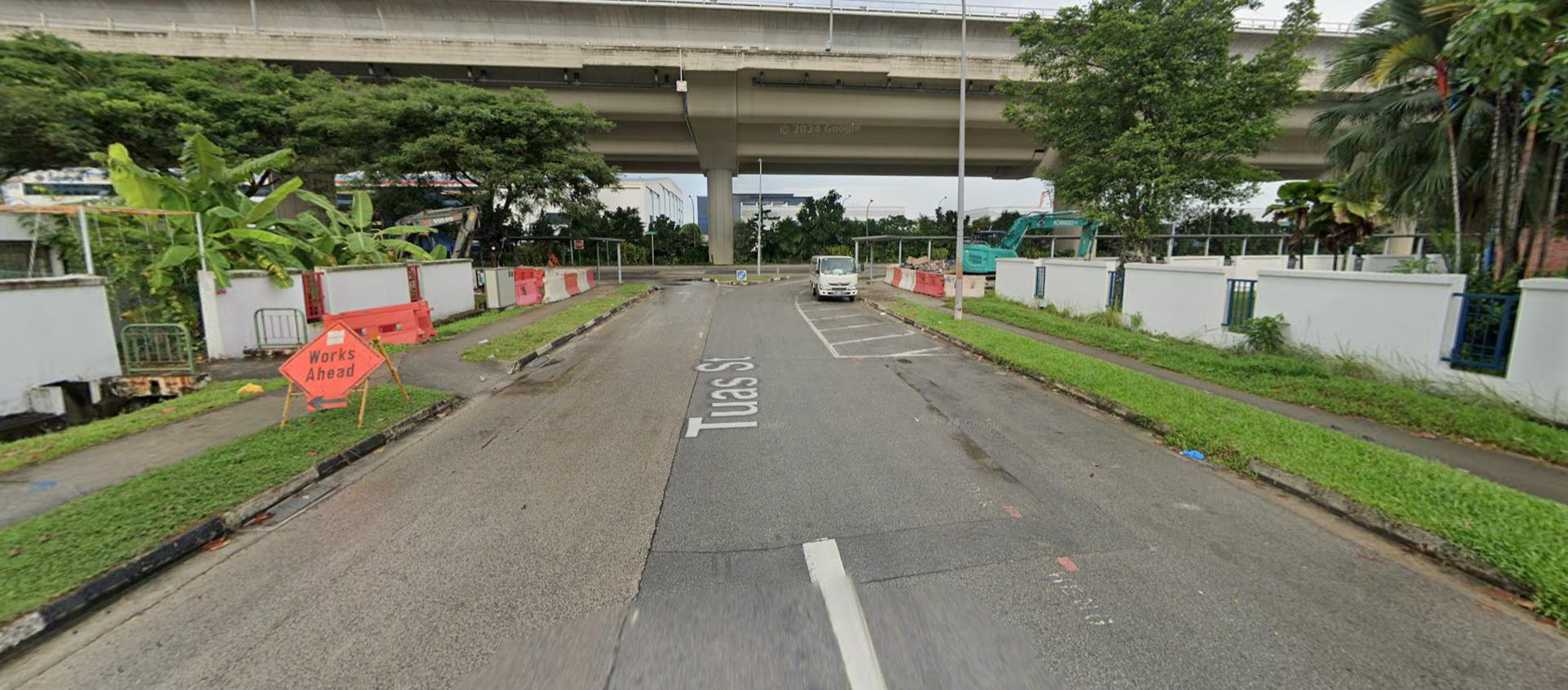defect: (253, 481, 344, 525)
